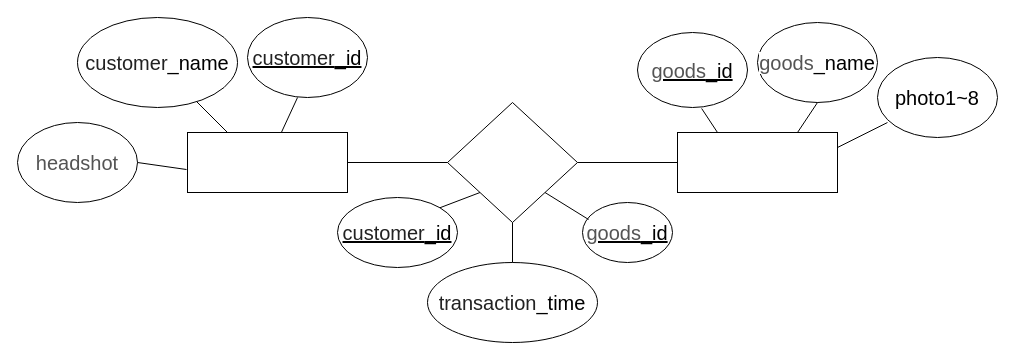
Image size: 1015x360. Some labels were removed from this diagram. Each missing label, with the box of its shape:
customer_info: (186, 132, 348, 192)
goods _info: (676, 132, 838, 192)
transaction: (446, 102, 578, 222)
